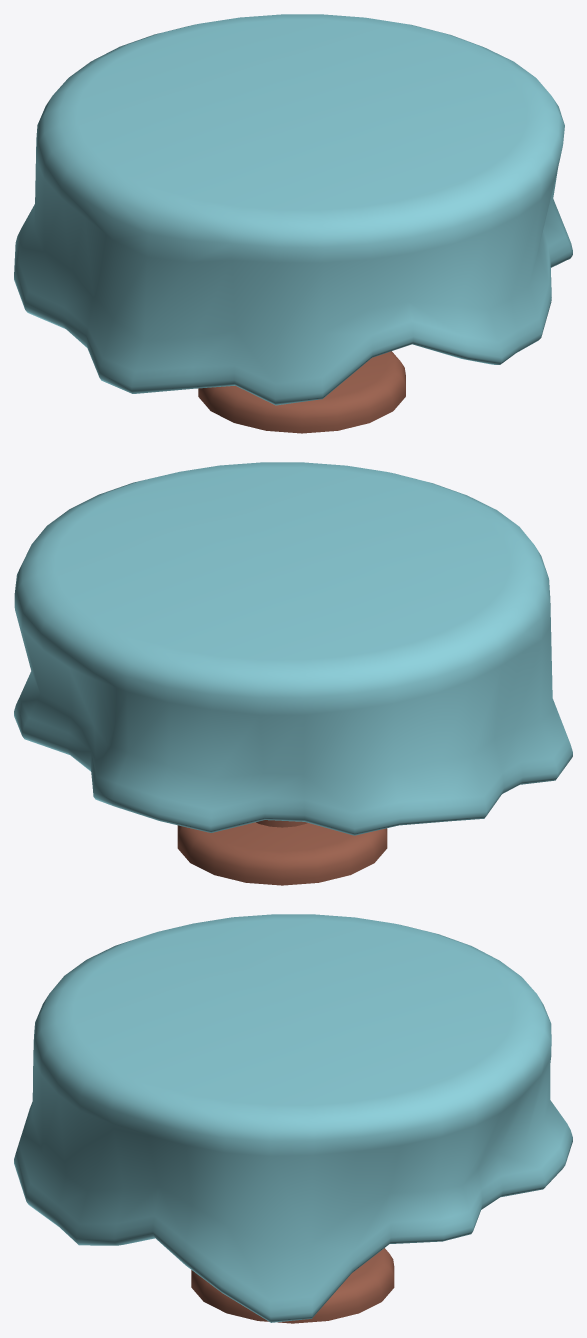
The model's file is Table.FBX.
3 views of the same model, one above another, from view 1: azimuth 30°, elevation 25°; view 2: azimuth 150°, elevation 25°; view 3: azimuth 270°, elevation 25° (orthographic). The views are drawn at different scales.
Visible parts, largest first — view 1: Table; view 2: Table; view 3: Table.
Boxes of the visible parts, left/top/right/bottom form: Table: left=14, top=14, right=572, bottom=433; Table: left=14, top=462, right=572, bottom=885; Table: left=14, top=914, right=572, bottom=1323.
Size of the model in its own units: 28.81 by 15.59 by 29.51.
